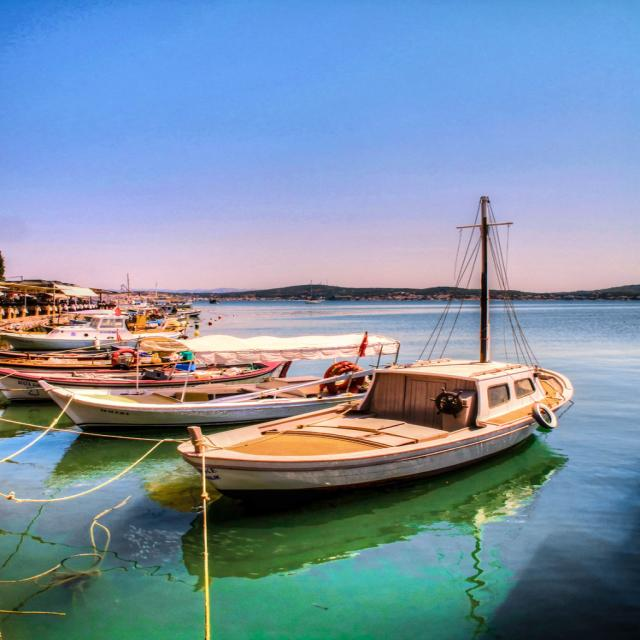Boat: (178, 244, 565, 511), (0, 271, 398, 436)
